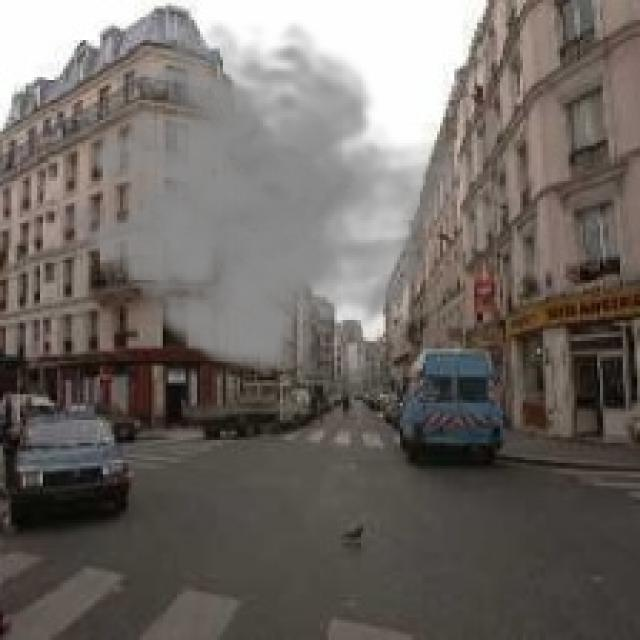smoke: (49, 20, 472, 380)
